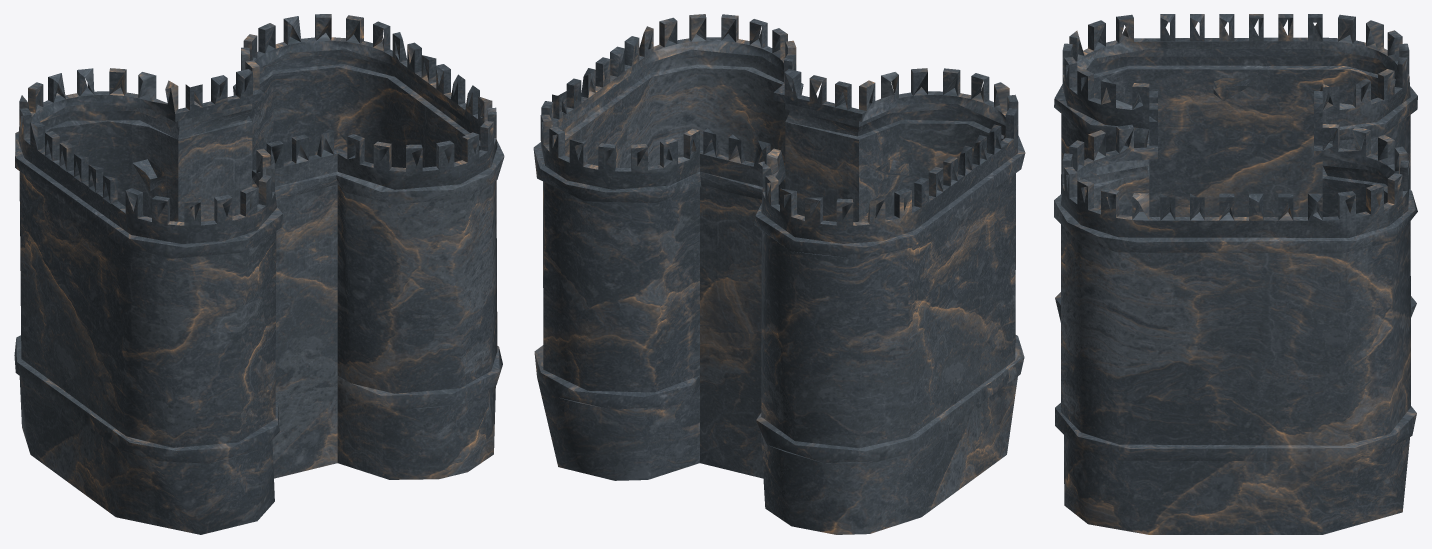
The model's file is Castle_LOD1.fbx.
The picture shows the model from 3 angles, left to right: view 1: azimuth 30°, elevation 25°; view 2: azimuth 150°, elevation 25°; view 3: azimuth 270°, elevation 25°; orthographic projection.
Parts seen in each view (by area): view 1: Castle; view 2: Castle; view 3: Castle.
Part boxes in pixels (<box>): Castle: <box>14,14,504,534</box>; Castle: <box>533,14,1025,534</box>; Castle: <box>1054,14,1417,534</box>.
Bounding box in the file's own units: 51329 × 43000 × 41989.
Materials: 1 (1 with a texture image).
